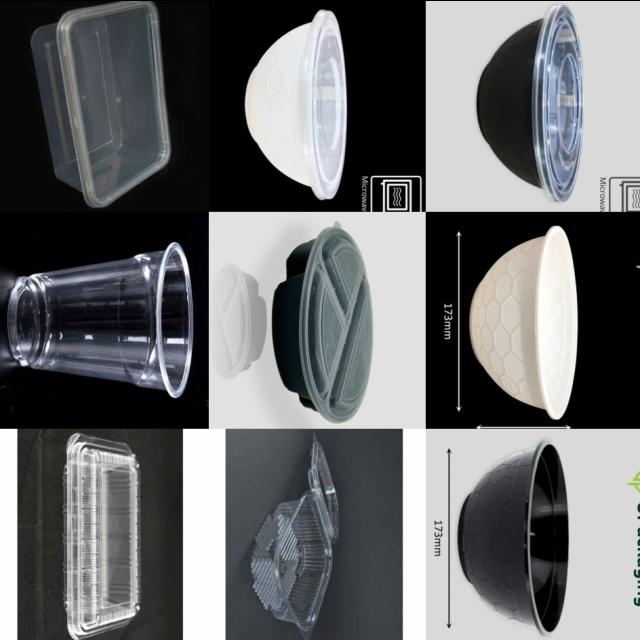plastik: (32, 0, 171, 206), (8, 242, 193, 396), (459, 440, 569, 635), (470, 225, 578, 418), (478, 4, 583, 201), (273, 225, 373, 422), (245, 9, 347, 199), (251, 434, 339, 640), (64, 432, 139, 640)
